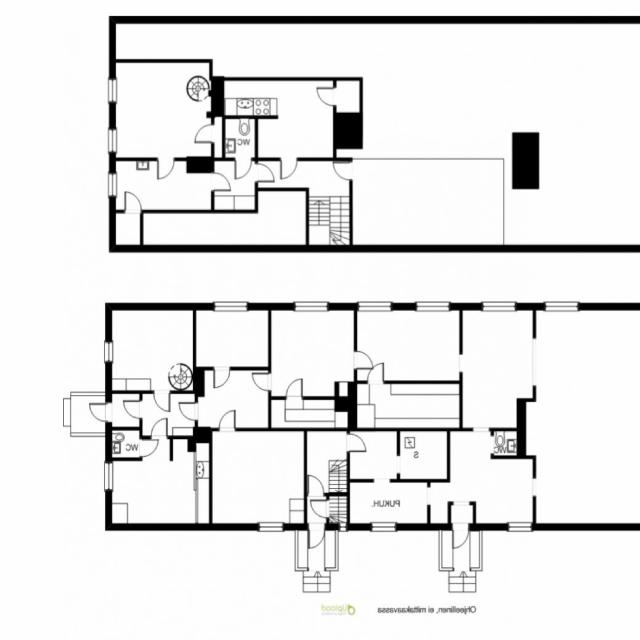door: (309, 524, 325, 549), (453, 524, 469, 549), (90, 404, 112, 422), (354, 351, 374, 369), (347, 434, 366, 452), (334, 162, 353, 180), (317, 88, 336, 106), (252, 374, 272, 391), (242, 170, 258, 191), (124, 401, 143, 418), (308, 476, 324, 496), (368, 364, 384, 384), (140, 440, 158, 457), (180, 403, 198, 420), (220, 412, 235, 432), (154, 391, 169, 411), (287, 380, 302, 400), (282, 158, 297, 178), (312, 501, 330, 517), (152, 420, 167, 439), (125, 195, 139, 213)
